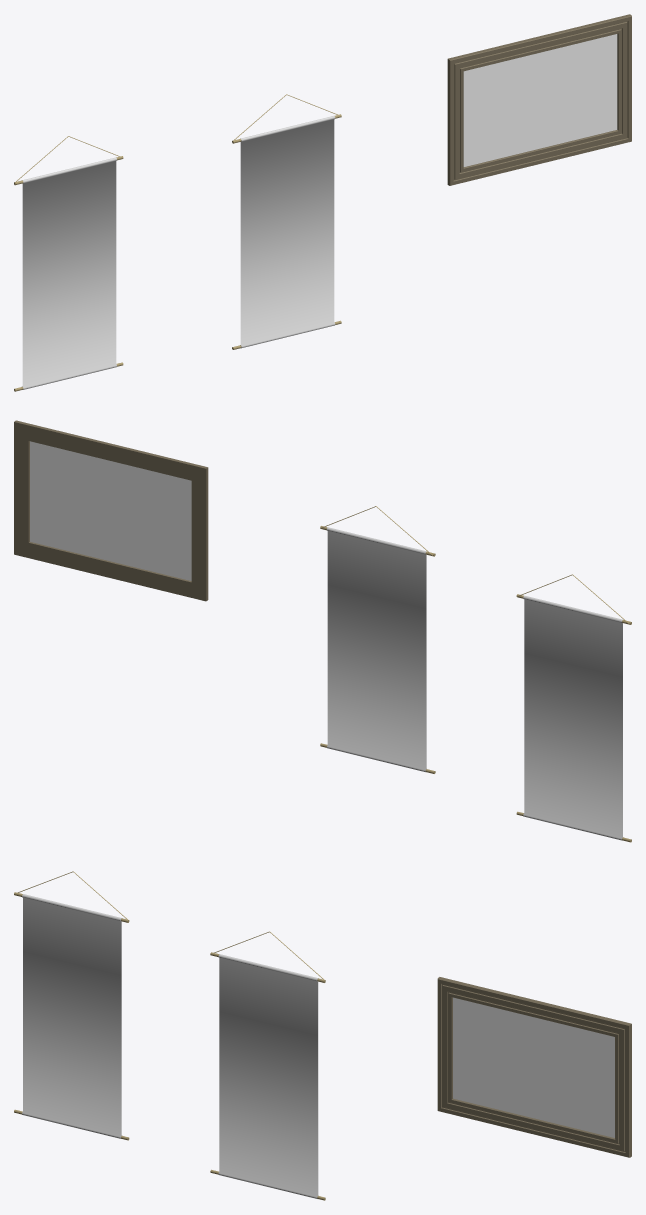
The model's file is Dojo_arredo.fbx.
The picture shows the model from 3 angles, top to bottom: view 1: azimuth 30°, elevation 25°; view 2: azimuth 150°, elevation 25°; view 3: azimuth 330°, elevation 25°; orthographic projection. The views are drawn at different scales.
Visible parts, largest first — view 1: Frame004, Flag01, Flag01.001; view 2: Frame004, Flag01, Flag01.001; view 3: Frame004, Flag01, Flag01.001.
Boxes of the visible parts, bbox=[...] form: Frame004: bbox=[447, 14, 631, 185]; Flag01: bbox=[232, 94, 341, 349]; Flag01.001: bbox=[14, 136, 123, 391]; Frame004: bbox=[14, 420, 208, 601]; Flag01: bbox=[320, 506, 435, 773]; Flag01.001: bbox=[516, 574, 631, 842]; Frame004: bbox=[437, 977, 631, 1157]; Flag01: bbox=[210, 931, 325, 1200]; Flag01.001: bbox=[14, 871, 129, 1140].
Bounding box in the file's own units: 455 × 178 × 23.91.
